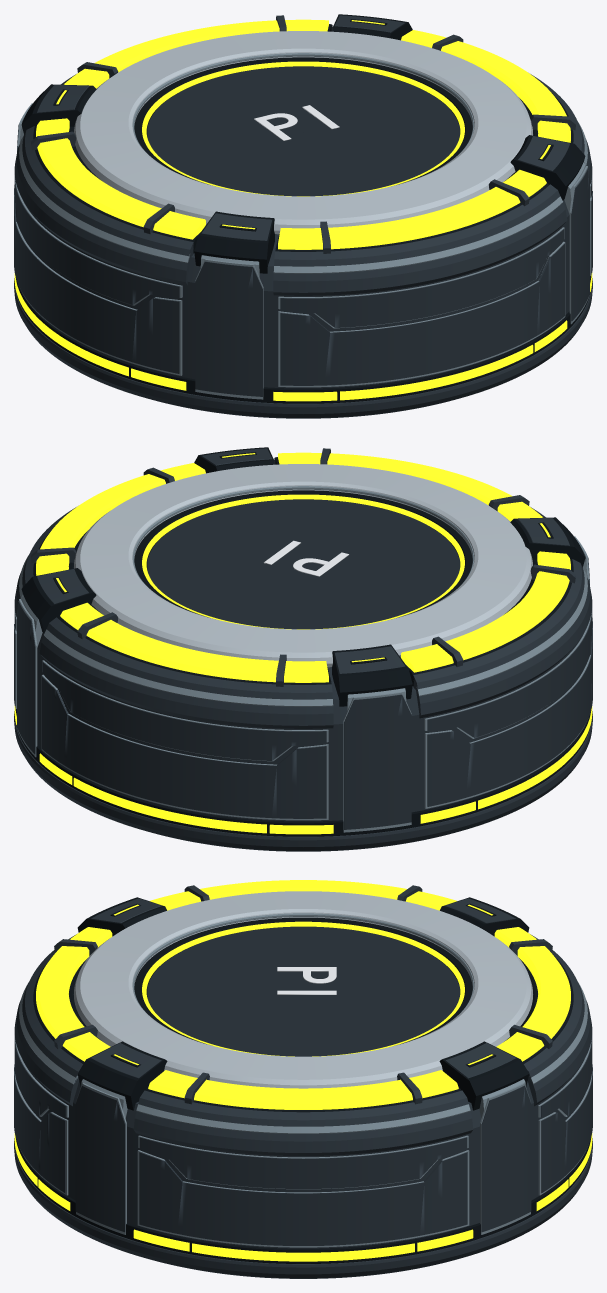
The model's file is Toppler.fbx.
3 views of the same model, one above another, from view 1: azimuth 30°, elevation 25°; view 2: azimuth 150°, elevation 25°; view 3: azimuth 270°, elevation 25° (orthographic).
Visible parts, largest first — view 1: SM_Puck_Toppler_P1_HighDetail; view 2: SM_Puck_Toppler_P1_HighDetail; view 3: SM_Puck_Toppler_P1_HighDetail.
Boxes of the visible parts, left/top/right/bottom form: SM_Puck_Toppler_P1_HighDetail: left=14, top=14, right=592, bottom=418; SM_Puck_Toppler_P1_HighDetail: left=14, top=447, right=592, bottom=851; SM_Puck_Toppler_P1_HighDetail: left=14, top=880, right=592, bottom=1278.
Bounding box in the file's own units: 90.3 × 90.3 × 30.7.
